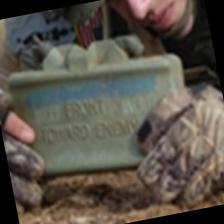MOH-50: (0, 21, 208, 208)
